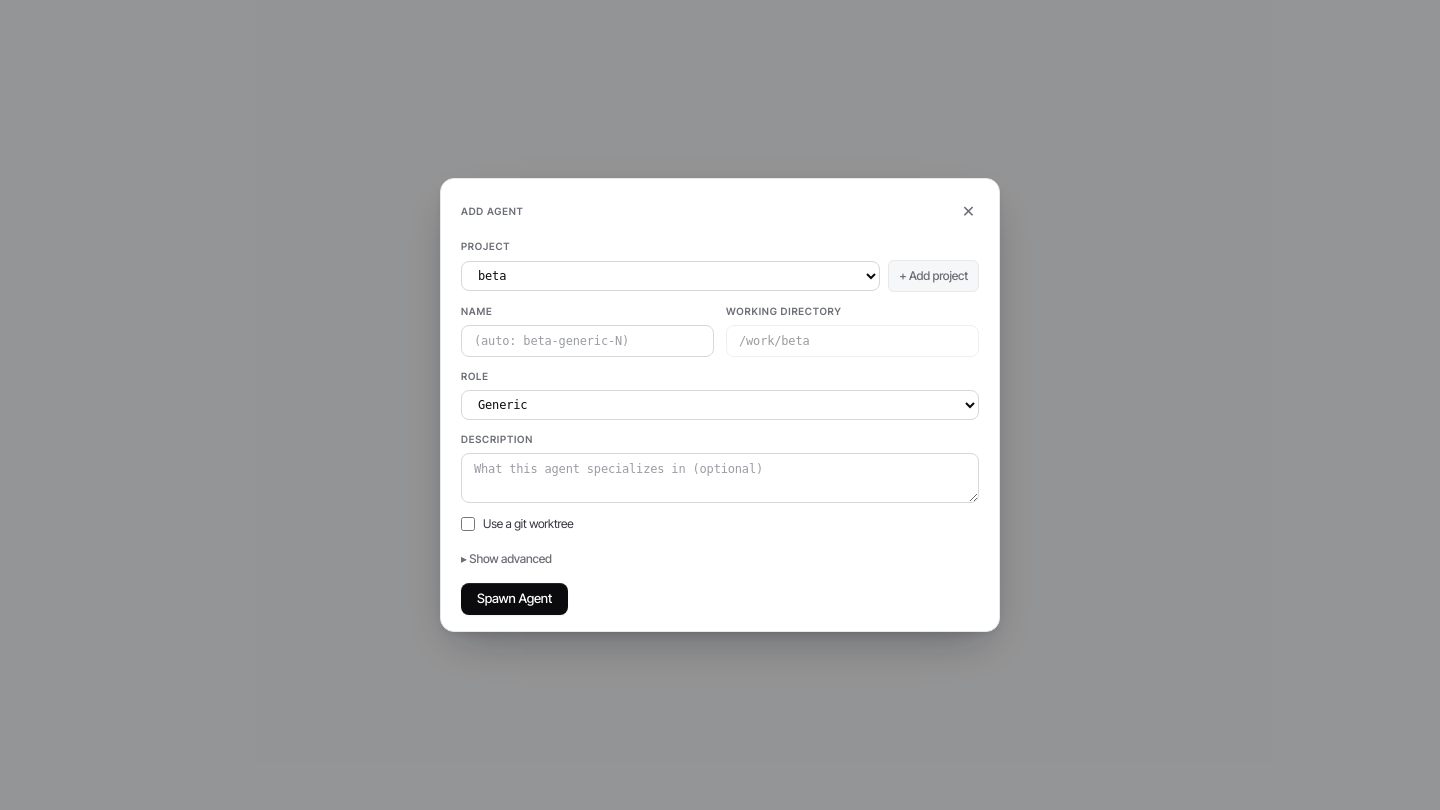
AddAgentForm defaultProjectId (TASK-0232) › preselects the project and applies its default launch command once the list loads
Expected: the dropdown labelled "Project" shows "beta", top-left (461, 261), bottom-right (880, 291)
Click the button "▸ Show advanced".
click(506, 559)  # box top-left (461, 553), bottom-right (552, 565)
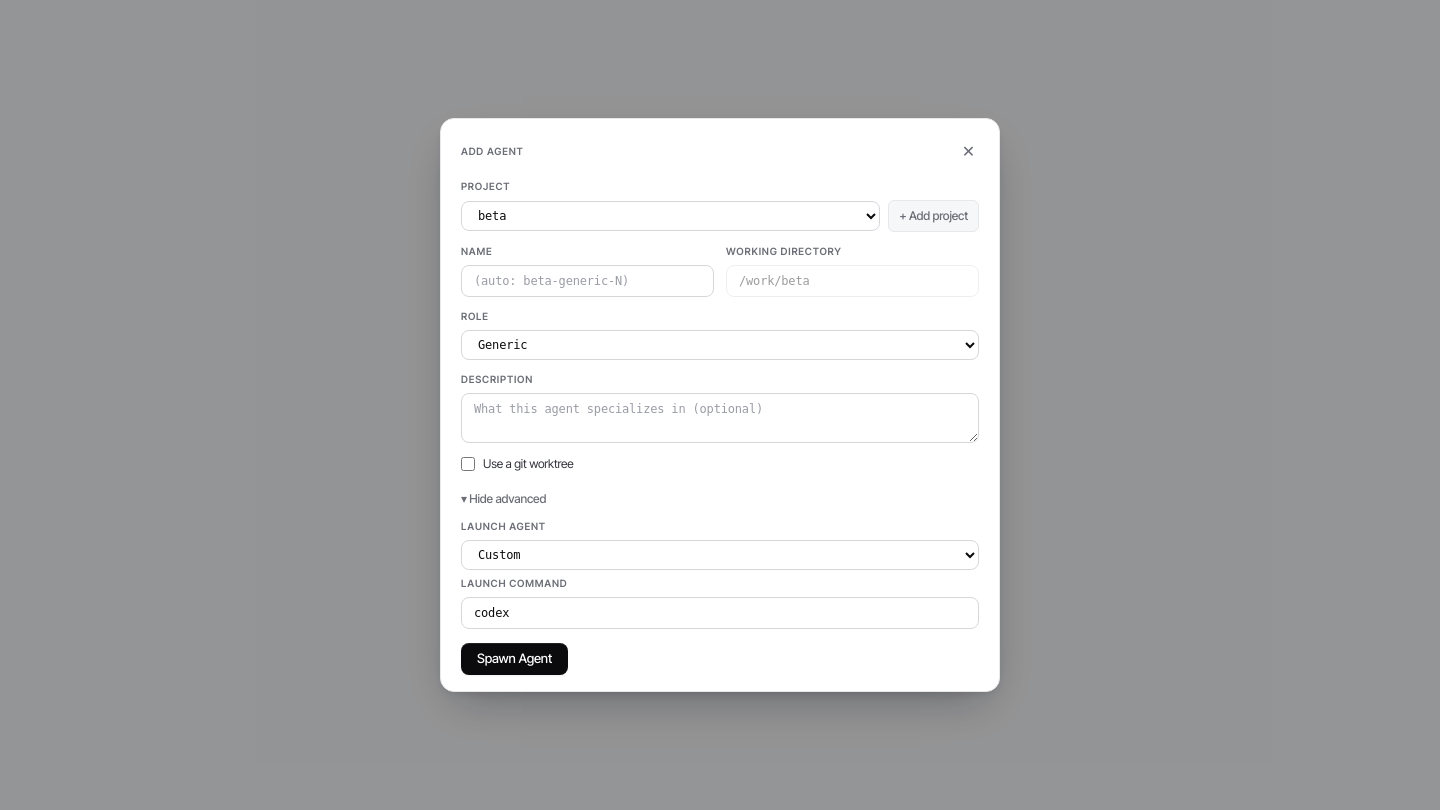
Now the field labelled "Launch Command" holds "codex", box top-left (461, 597), bottom-right (979, 629)
